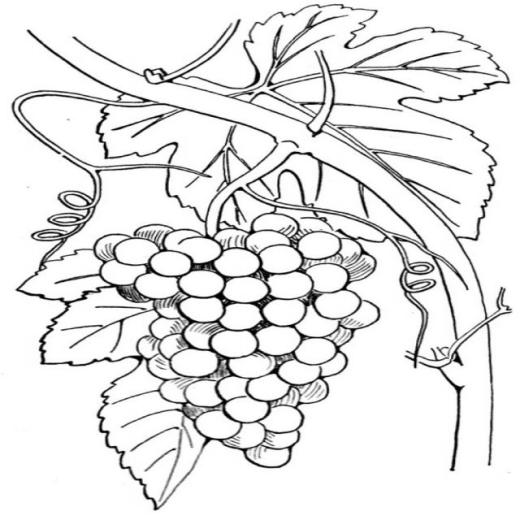Orange: (98, 214, 384, 467)
